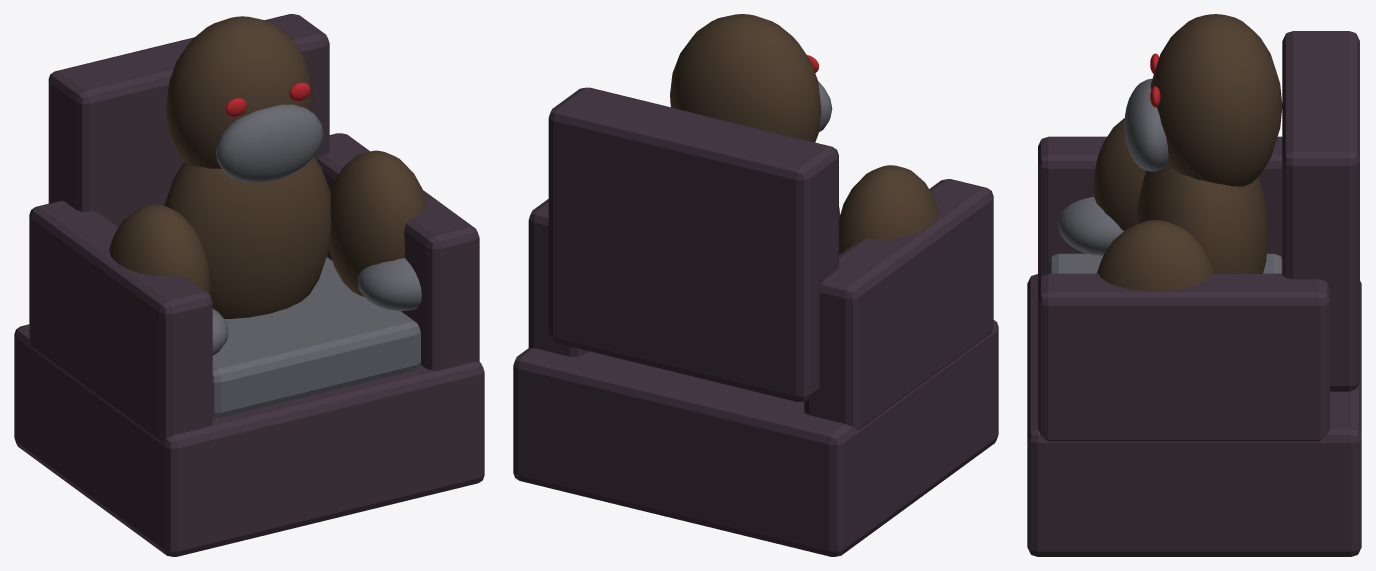
The model's file is better.glb.
The picture shows the model from 3 angles, left to right: view 1: azimuth 30°, elevation 25°; view 2: azimuth 150°, elevation 25°; view 3: azimuth 270°, elevation 25°; orthographic projection. The views are drawn at different scales.
Parts seen in each view (by area): view 1: Armchair base, Gorilla arm, Gorilla muzzle, Eye; view 2: Armchair base, Gorilla arm; view 3: Armchair base, Gorilla arm, Gorilla muzzle.
Boxes of the visible parts, x1,y1,x2,y2 form: Armchair base: (14, 14, 484, 556); Gorilla arm: (109, 16, 426, 318); Gorilla muzzle: (212, 104, 421, 417); Eye: (225, 82, 310, 116); Armchair base: (513, 87, 998, 556); Gorilla arm: (670, 14, 938, 254); Armchair base: (1027, 31, 1361, 556); Gorilla arm: (1093, 14, 1282, 291); Gorilla muzzle: (1048, 78, 1282, 273).
Bounding box in the file's own units: 1 × 1.31 × 0.8636.
